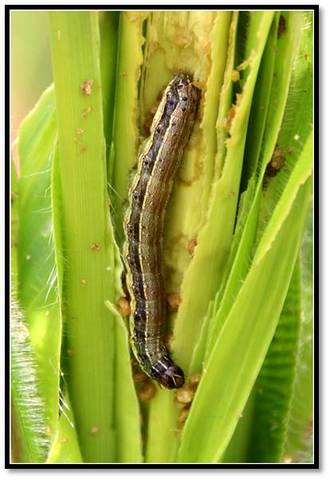Armyworm: (123, 63, 215, 405)
